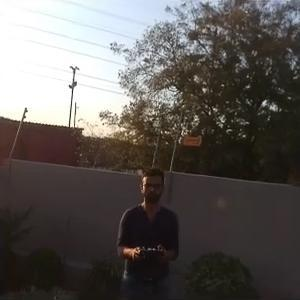follow: (114, 159, 182, 298)
